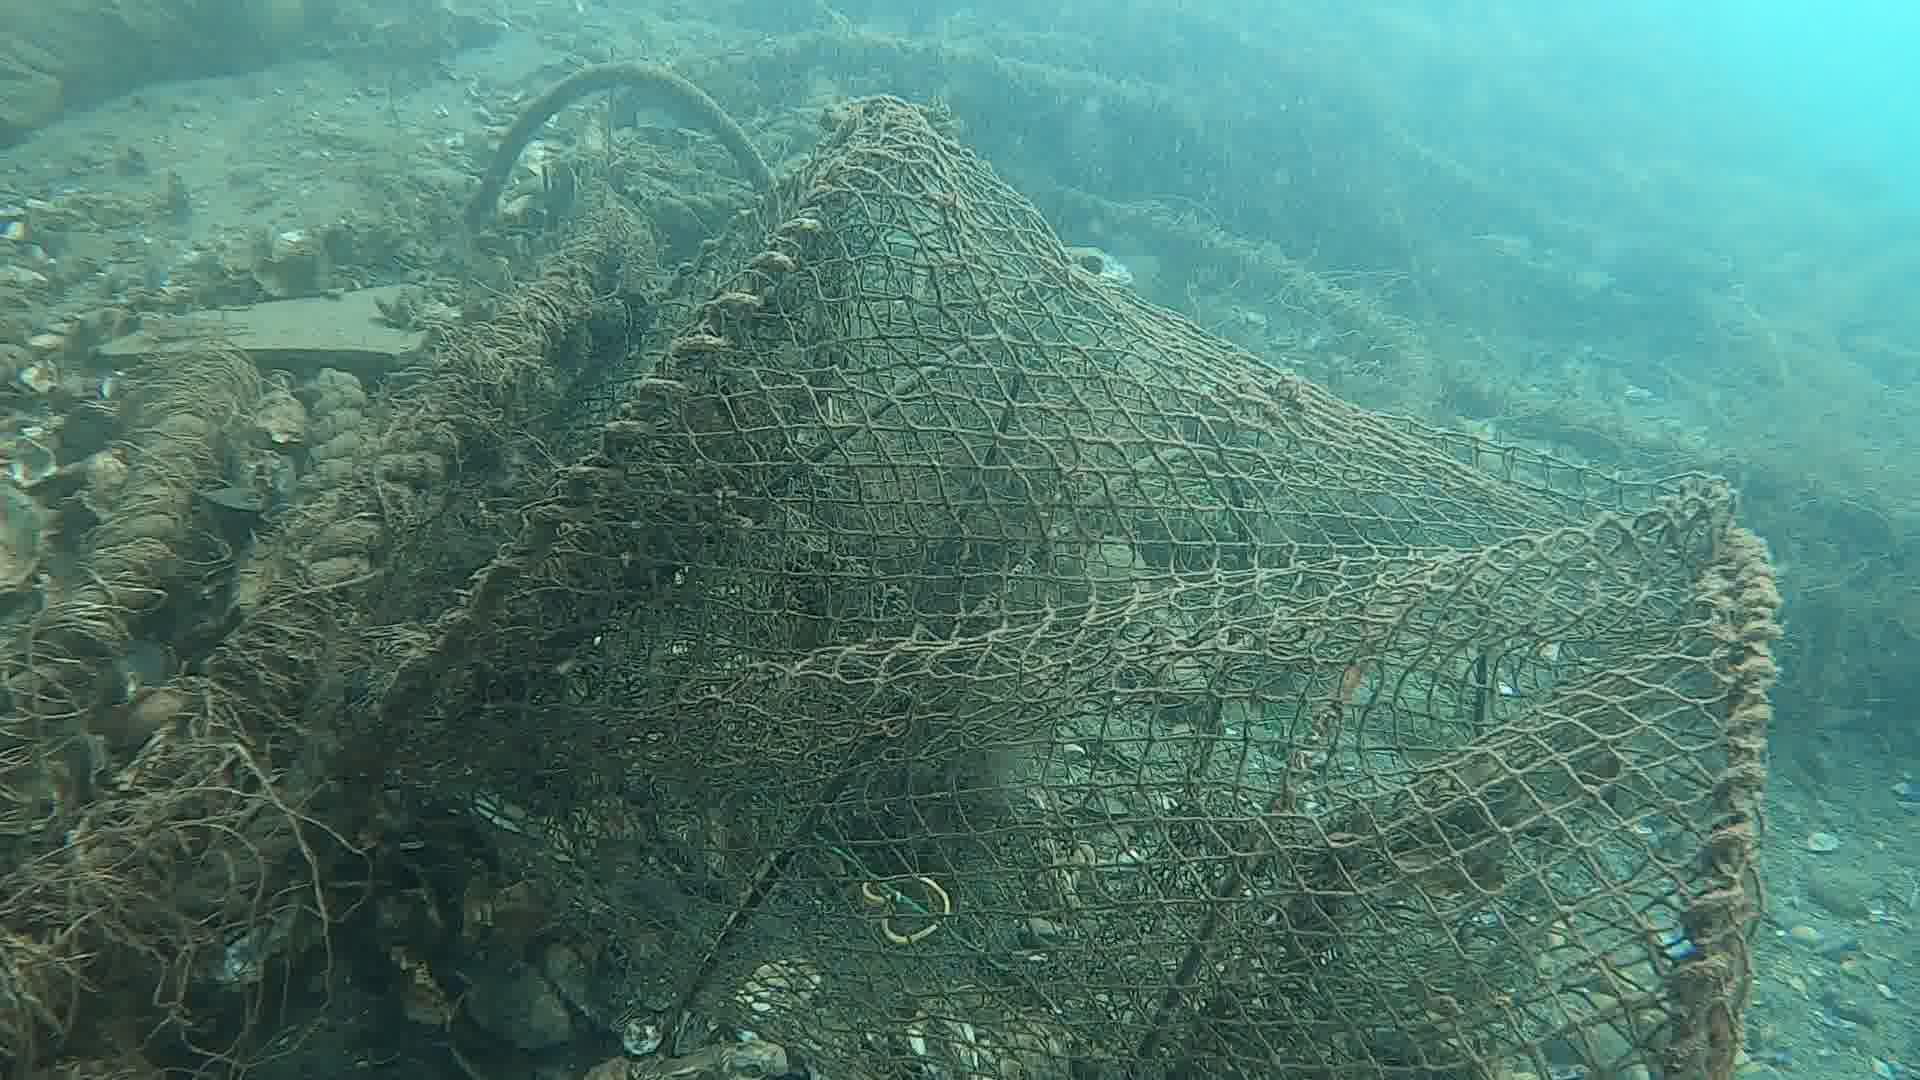bundle of ropes: (55, 367, 447, 617)
spring fish trap: (323, 91, 1784, 1080)
